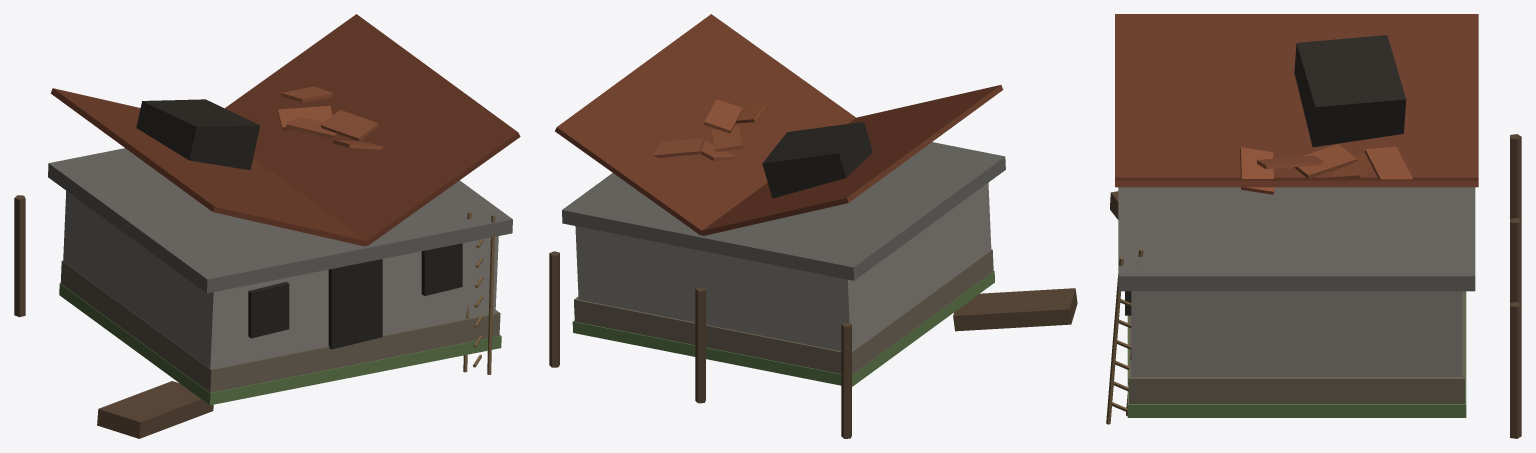
File: S_HalfSunk.glb
3 views of the same model, side by side, from view 1: azimuth 30°, elevation 25°; view 2: azimuth 150°, elevation 25°; view 3: azimuth 270°, elevation 25° (orthographic). The views are drawn at different scales.
Parts seen in each view (by area): view 1: S_HalfSunk; view 2: S_HalfSunk; view 3: S_HalfSunk.
Boxes of the visible parts, bbox=[...] form: S_HalfSunk: bbox=[14, 14, 520, 438]; S_HalfSunk: bbox=[549, 14, 1077, 438]; S_HalfSunk: bbox=[1106, 14, 1521, 438].
Bounding box in the file's own units: 7.87 × 4.49 × 6.28.
